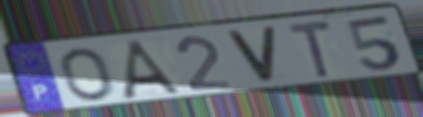2: (173, 33, 237, 93)
5: (344, 14, 405, 73)
A: (119, 37, 189, 101)
O: (58, 47, 117, 103)
T: (284, 18, 336, 82)
V: (222, 25, 280, 85)
